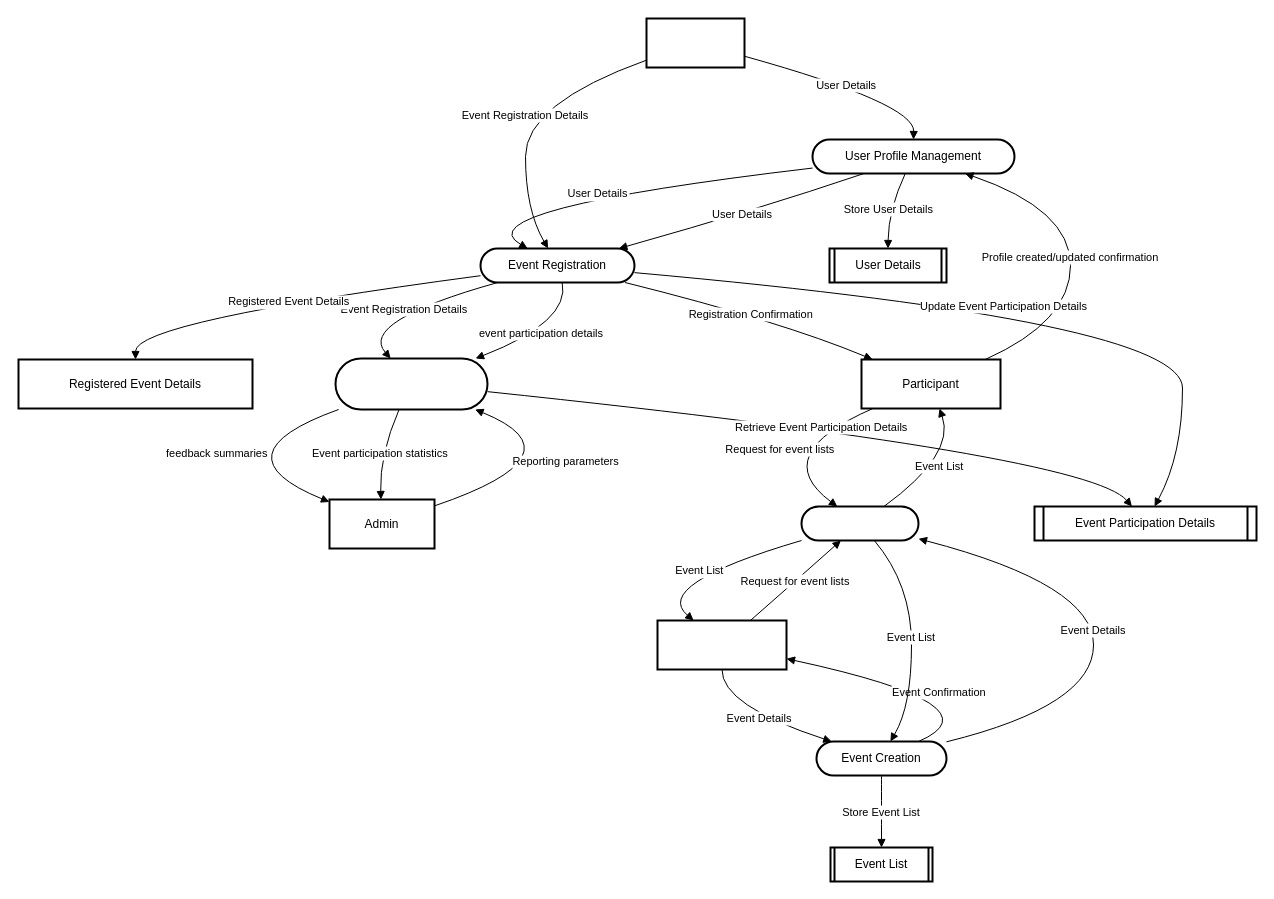
Some shapes in this 1274 by 899 pixel diagram are drawn without their labels. The centre of each missing label's shape, as x and y in pixels:
Organizer: (721,644)
Query Events: (859,523)
Report/Feedback Management: (411,383)
Users: (695,42)
